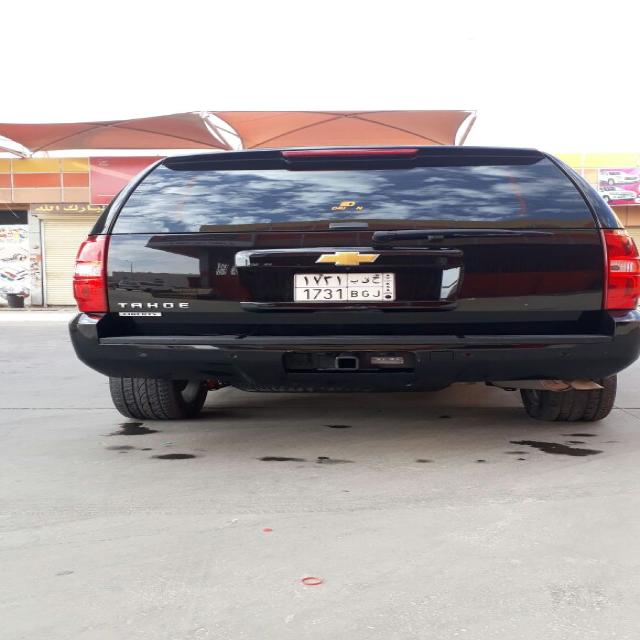license_plate: (290, 270, 401, 304)
